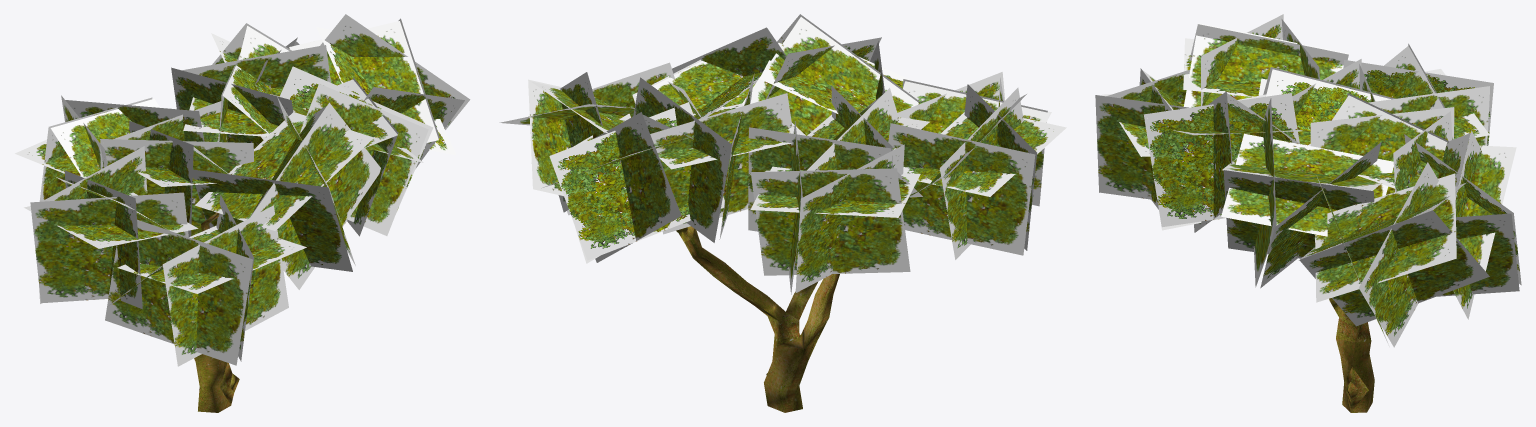
Rendered from AcaciaTree.gltf.
3 renders of one model, left to right at view 1: azimuth 30°, elevation 25°; view 2: azimuth 150°, elevation 25°; view 3: azimuth 270°, elevation 25°, orthographic. The views are drawn at different scales.
Parts seen in each view (by area): view 1: AcaciaTreeLeaves, AcaciaTree; view 2: AcaciaTreeLeaves, AcaciaTree; view 3: AcaciaTreeLeaves, AcaciaTree.
Part boxes in pixels (left/top/right/bottom): AcaciaTreeLeaves: left=15, top=14, right=470, bottom=366; AcaciaTree: left=194, top=212, right=239, bottom=412; AcaciaTreeLeaves: left=499, top=14, right=1066, bottom=294; AcaciaTree: left=676, top=226, right=839, bottom=412; AcaciaTreeLeaves: left=1095, top=14, right=1521, bottom=347; AcaciaTree: left=1329, top=298, right=1374, bottom=412.
Bounding box in the file's own units: 178 × 121 × 138.
2 materials, 2 textured.
